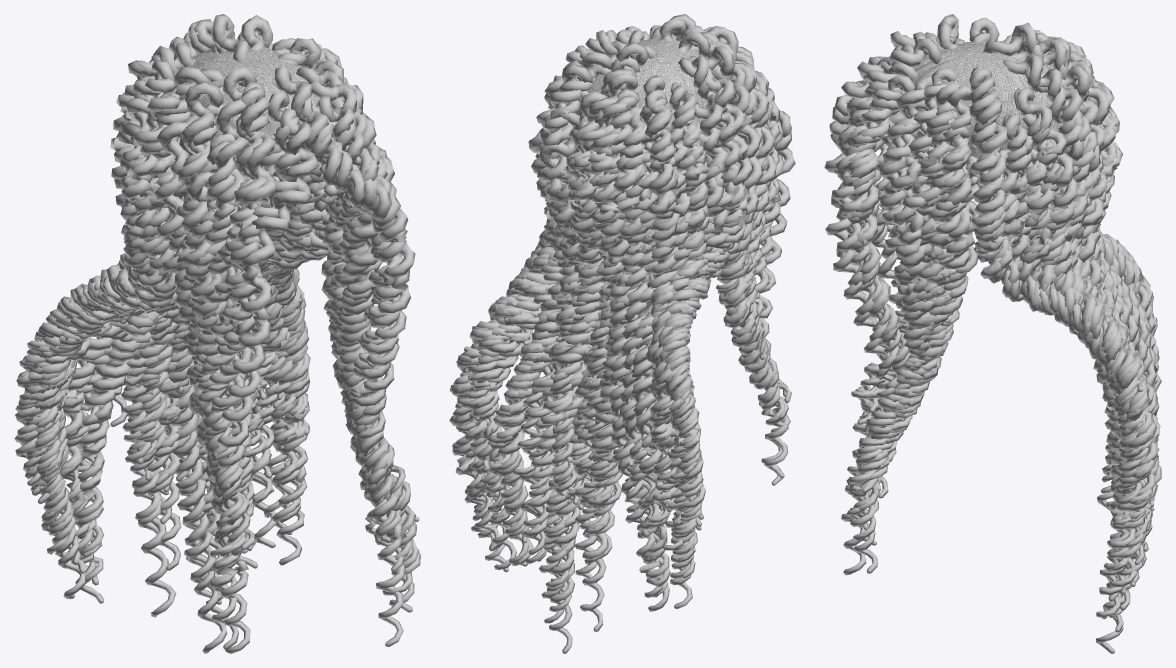
File: NC_Head_Male_Hair1.fbx
3 renders of one model, left to right at view 1: azimuth 30°, elevation 25°; view 2: azimuth 150°, elevation 25°; view 3: azimuth 270°, elevation 25°, orthographic. The views are drawn at different scales.
Parts seen in each view (by area): view 1: Hair_LongCurls_5, Hair_LongCurls_2, Hair_LongCurls_6, Hair_LongCurls_Cap_4, Hair_LongCurls_Cap_2, Hair_LongCurls_3, Hair_LongCurls_7, Hair_LongCurls_4, Hair_Curls_5, Hair_LongCurls_Cap_3, Hair_LongCurls, Hair_Curls_6 (+5 smaller); view 2: Hair_LongCurls_5, Hair_LongCurls_2, Hair_LongCurls_4, Hair_LongCurls_6, Hair_LongCurls_Cap_2, Hair_LongCurls_7, Hair_LongCurls_3, Hair_LongCurls_Cap_3, Hair_LongCurls_Cap_4, Hair_Curls_5, Hair_LongCurls, Hair_LongCurls_Cap (+6 smaller); view 3: Hair_LongCurls_6, Hair_LongCurls_3, Hair_LongCurls_2, Hair_LongCurls_5, Hair_LongCurls_4, Hair_LongCurls_7, Hair_Curls_5, Hair_LongCurls_Cap_2, Hair_LongCurls, Hair_Curls_6, Hair_LongCurls_Cap_4, Hair_LongCurls_Cap_3 (+5 smaller).
Boxes of the visible parts, x1=… form: Hair_LongCurls_5: x1=27, y1=21, x2=419, y2=653; Hair_LongCurls_2: x1=39, y1=65, x2=415, y2=617; Hair_LongCurls_6: x1=14, y1=14, x2=415, y2=597; Hair_LongCurls_Cap_4: x1=15, y1=166, x2=412, y2=604; Hair_LongCurls_Cap_2: x1=59, y1=177, x2=405, y2=646; Hair_LongCurls_3: x1=21, y1=15, x2=419, y2=567; Hair_LongCurls_7: x1=15, y1=40, x2=401, y2=513; Hair_LongCurls_4: x1=17, y1=97, x2=420, y2=653; Hair_Curls_5: x1=82, y1=38, x2=368, y2=396; Hair_LongCurls_Cap_3: x1=18, y1=164, x2=325, y2=599; Hair_LongCurls: x1=79, y1=42, x2=319, y2=522; Hair_Curls_6: x1=114, y1=30, x2=400, y2=382; Hair_LongCurls_5: x1=465, y1=26, x2=795, y2=653; Hair_LongCurls_2: x1=473, y1=14, x2=780, y2=631; Hair_LongCurls_4: x1=452, y1=91, x2=790, y2=570; Hair_LongCurls_6: x1=452, y1=26, x2=788, y2=511; Hair_LongCurls_Cap_2: x1=456, y1=174, x2=787, y2=611; Hair_LongCurls_7: x1=462, y1=30, x2=771, y2=519; Hair_LongCurls_3: x1=464, y1=51, x2=791, y2=567; Hair_LongCurls_Cap_3: x1=452, y1=174, x2=717, y2=609; Hair_LongCurls_Cap_4: x1=455, y1=155, x2=780, y2=611; Hair_Curls_5: x1=521, y1=27, x2=780, y2=333; Hair_LongCurls: x1=449, y1=38, x2=752, y2=548; Hair_LongCurls_Cap: x1=451, y1=211, x2=746, y2=575; Hair_LongCurls_6: x1=850, y1=17, x2=1161, y2=547; Hair_LongCurls_3: x1=847, y1=67, x2=1160, y2=569; Hair_LongCurls_2: x1=825, y1=38, x2=1158, y2=632; Hair_LongCurls_5: x1=824, y1=14, x2=1161, y2=653; Hair_LongCurls_4: x1=850, y1=66, x2=1159, y2=610; Hair_LongCurls_7: x1=847, y1=21, x2=1159, y2=523; Hair_Curls_5: x1=852, y1=30, x2=1117, y2=326; Hair_LongCurls_Cap_2: x1=841, y1=187, x2=1159, y2=619; Hair_LongCurls: x1=901, y1=31, x2=1155, y2=594; Hair_Curls_6: x1=846, y1=40, x2=1121, y2=365; Hair_LongCurls_Cap_4: x1=851, y1=130, x2=1158, y2=617; Hair_LongCurls_Cap_3: x1=1002, y1=193, x2=1158, y2=564.
Size of the model in its own units: 1.19 by 2.65 by 1.32.
Materials: 1 (1 with a texture image).
